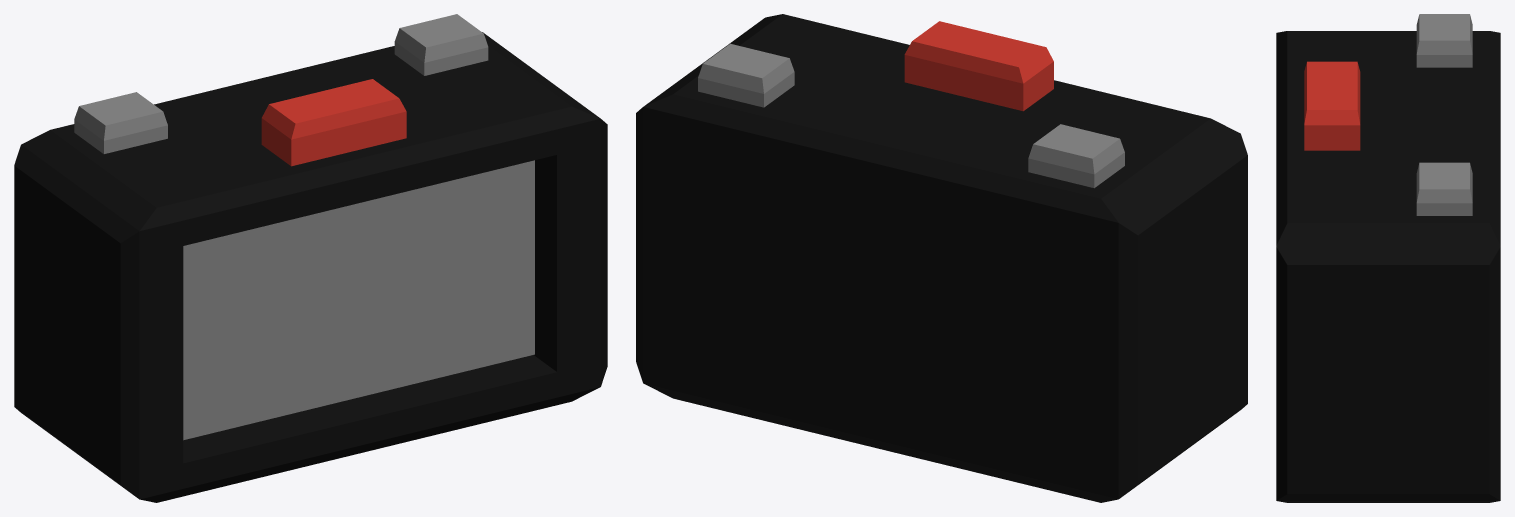
Rendered from clock.gltf.
The picture shows the model from 3 angles, left to right: view 1: azimuth 30°, elevation 25°; view 2: azimuth 150°, elevation 25°; view 3: azimuth 270°, elevation 25°; orthographic projection. The views are drawn at different scales.
Visible parts, largest first — view 1: node_MeshObject-1537716224-PolyPaper21; view 2: node_MeshObject-1537716224-PolyPaper21; view 3: node_MeshObject-1537716224-PolyPaper21.
Part boxes in pixels (x1=…): node_MeshObject-1537716224-PolyPaper21: x1=14, y1=14, x2=607, y2=502; node_MeshObject-1537716224-PolyPaper21: x1=636, y1=14, x2=1247, y2=502; node_MeshObject-1537716224-PolyPaper21: x1=1276, y1=14, x2=1500, y2=502.
Size of the model in its own units: 0.38 by 0.25 by 0.16.
